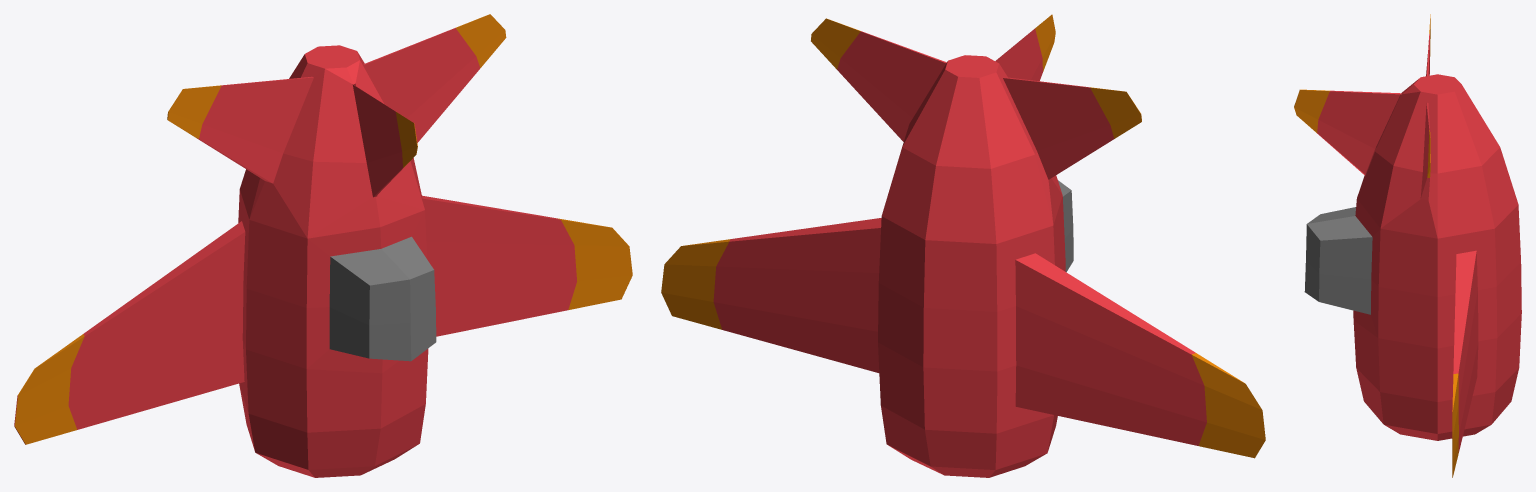
Rendered from enemy.glb.
3 views of the same model, side by side, from view 1: azimuth 30°, elevation 25°; view 2: azimuth 150°, elevation 25°; view 3: azimuth 270°, elevation 25° (orthographic). The views are drawn at different scales.
Parts seen in each view (by area): view 1: Cylinder; view 2: Cylinder; view 3: Cylinder.
Boxes of the visible parts, x1,y1,x2,y2 form: Cylinder: (14,14,632,477); Cylinder: (661,14,1265,477); Cylinder: (1294,14,1521,477).
Size of the model in its own units: 6.92 by 4.32 by 2.62.
